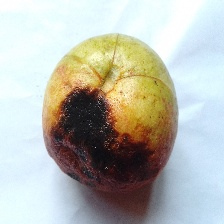guava: (30, 54, 198, 206)
